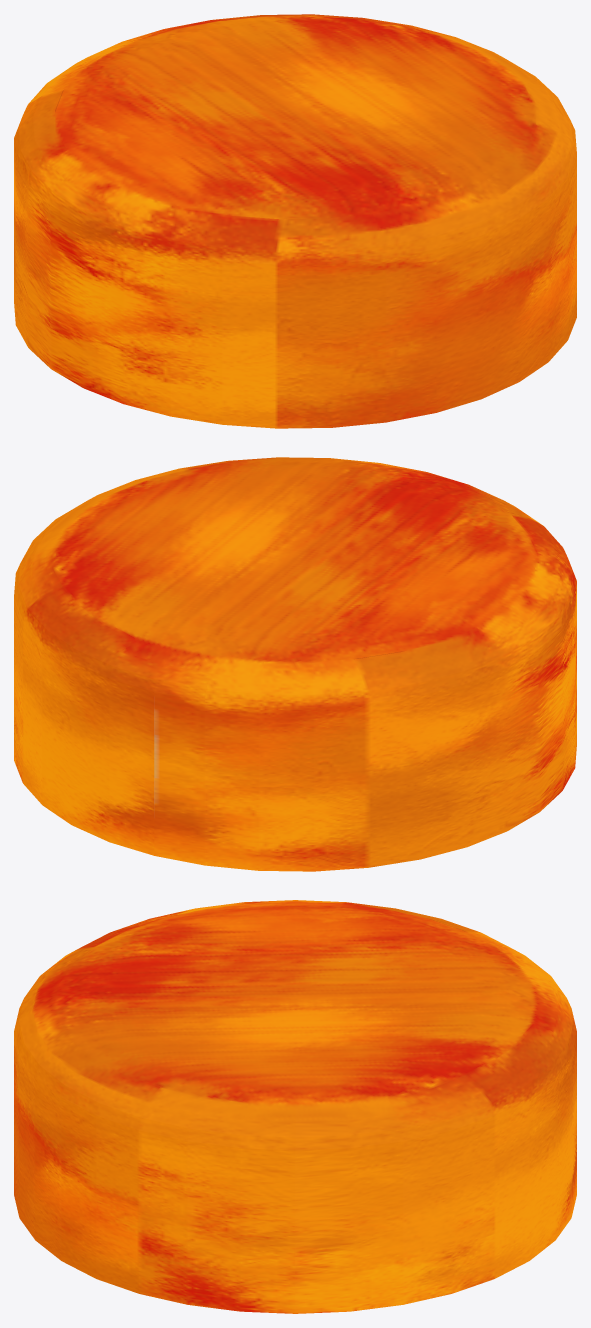
The model's file is Button_pen1.fbx.
The picture shows the model from 3 angles, top to bottom: view 1: azimuth 30°, elevation 25°; view 2: azimuth 150°, elevation 25°; view 3: azimuth 270°, elevation 25°; orthographic projection.
Visible parts, largest first — view 1: Button.001; view 2: Button.001; view 3: Button.001.
Part boxes in pixels (x1=…): Button.001: x1=14, y1=14, x2=576, y2=428; Button.001: x1=14, y1=457, x2=576, y2=871; Button.001: x1=14, y1=900, x2=576, y2=1313.
Size of the model in its own units: 0.3309 by 0.3309 by 0.1286.
